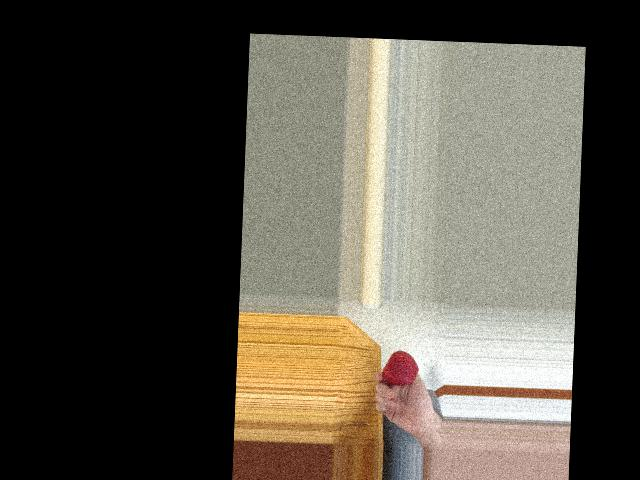apple: (381, 348, 420, 387)
